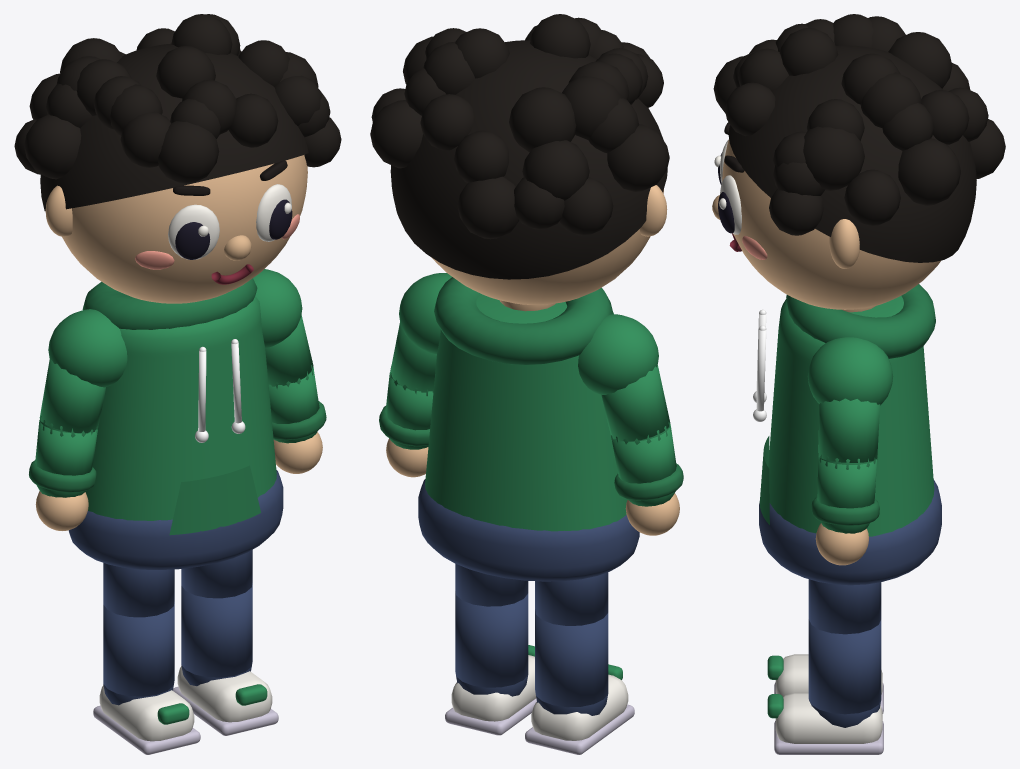
File: ch_kirill.fbx
The picture shows the model from 3 angles, left to right: view 1: azimuth 30°, elevation 25°; view 2: azimuth 150°, elevation 25°; view 3: azimuth 270°, elevation 25°; orthographic projection. The views are drawn at different scales.
Visible parts, largest first — view 1: ch_kirill; view 2: ch_kirill; view 3: ch_kirill.
Boxes of the visible parts, x1,y1,x2,y2 form: ch_kirill: (14, 14, 341, 754); ch_kirill: (370, 14, 683, 754); ch_kirill: (712, 14, 1005, 754).
Bounding box in the file's own units: 0.6284 × 1.42 × 0.5497.
